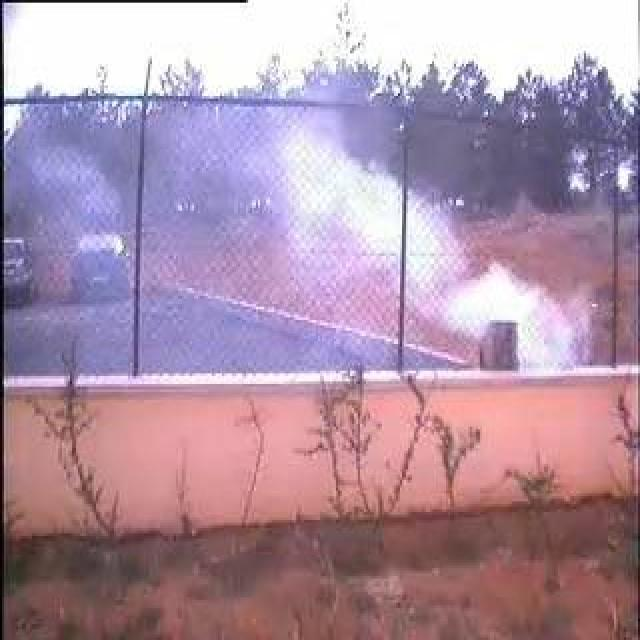Smoke: (229, 128, 567, 371)
